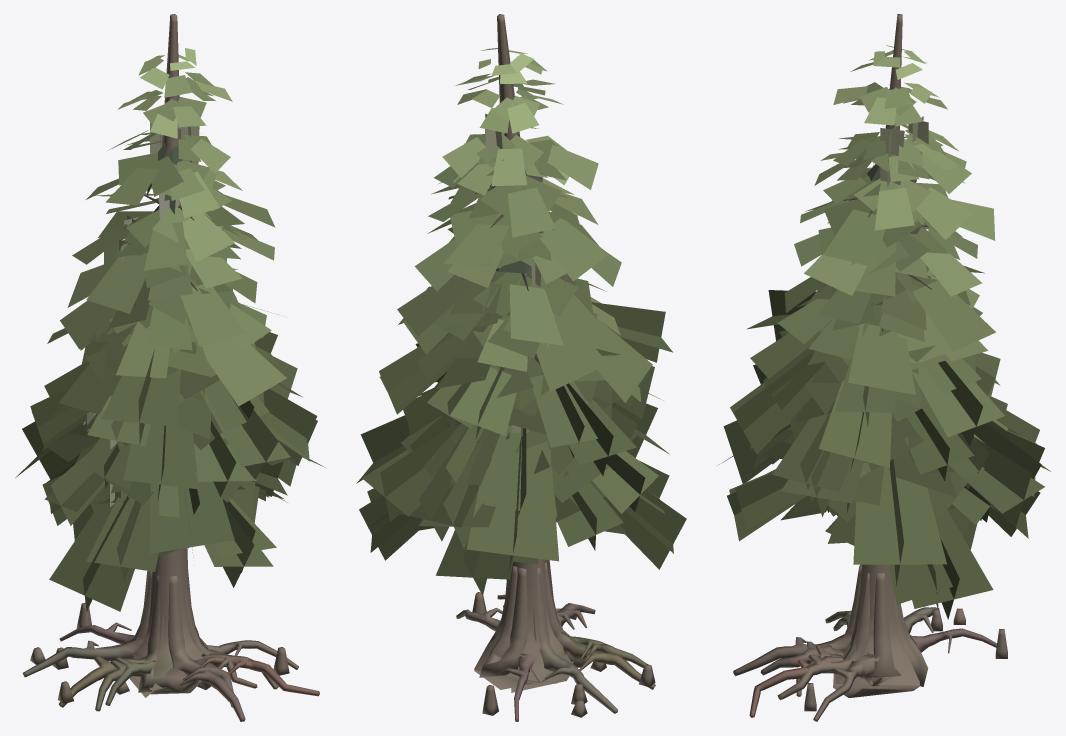
The model's file is cypress_2.glb.
3 views of the same model, side by side, from view 1: azimuth 30°, elevation 25°; view 2: azimuth 150°, elevation 25°; view 3: azimuth 270°, elevation 25° (orthographic). The views are drawn at different scales.
Parts seen in each view (by area): view 1: cypress_2; view 2: cypress_2; view 3: cypress_2.
Part boxes in pixels (box(x1,y1,x2,y2)): cypress_2: box(15, 14, 324, 721); cypress_2: box(356, 14, 686, 721); cypress_2: box(717, 14, 1050, 721).
Size of the model in its own units: 7.57 by 16.82 by 7.55.
